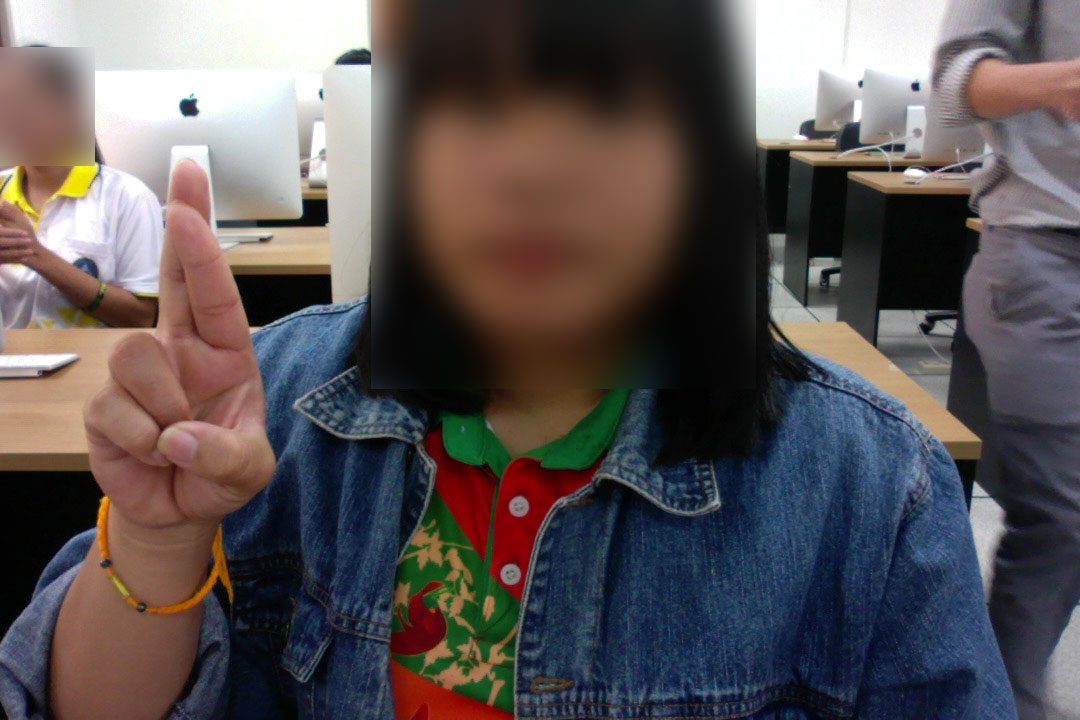rao: (76, 157, 289, 532)
